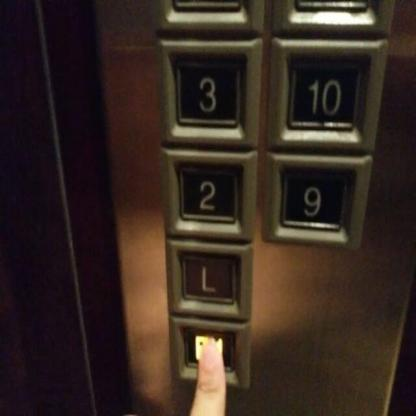10: (268, 34, 388, 154)
2: (160, 146, 254, 244)
3: (155, 36, 261, 146)
9: (264, 150, 373, 252)
L: (162, 240, 250, 319)
